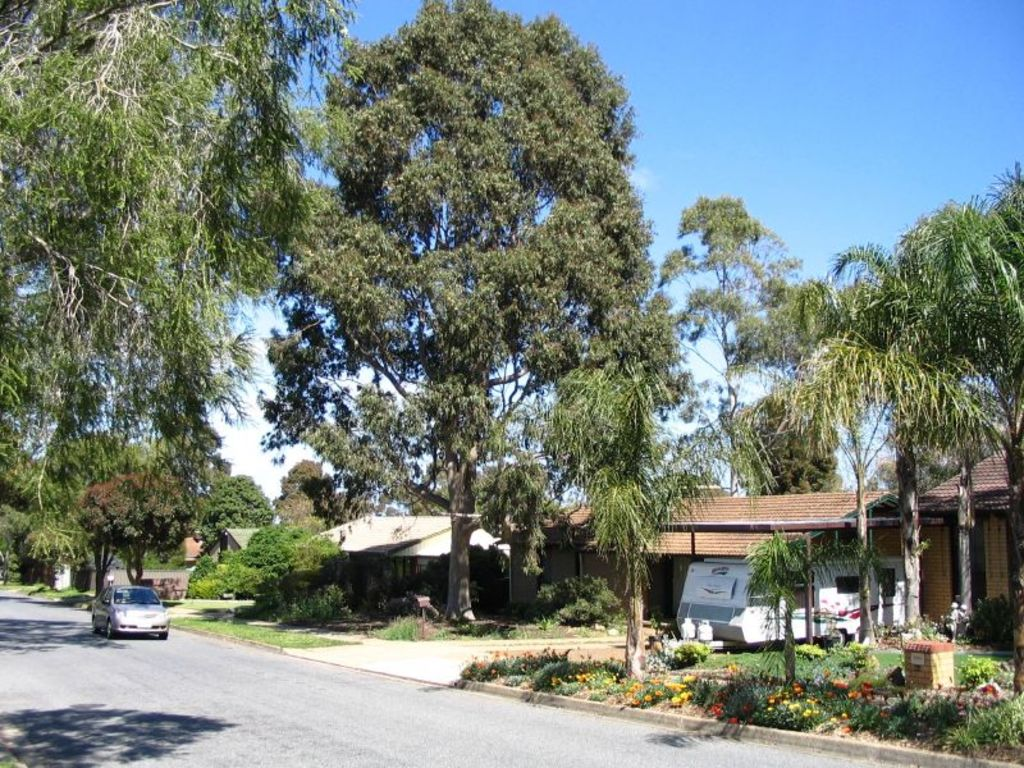Tree: (229, 28, 691, 637), (0, 1, 375, 572), (791, 162, 1022, 666), (478, 348, 730, 683), (628, 190, 829, 501), (738, 531, 893, 700), (28, 421, 163, 577), (695, 380, 856, 499), (71, 471, 208, 600), (253, 453, 363, 536), (241, 509, 322, 614), (0, 439, 60, 579), (175, 474, 275, 549), (266, 541, 350, 618)
